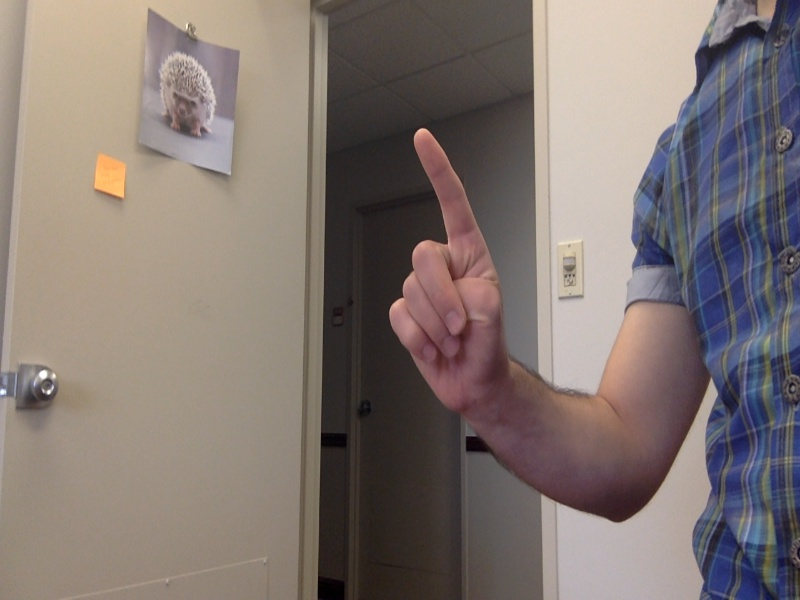1-hand: (386, 129, 508, 429)
